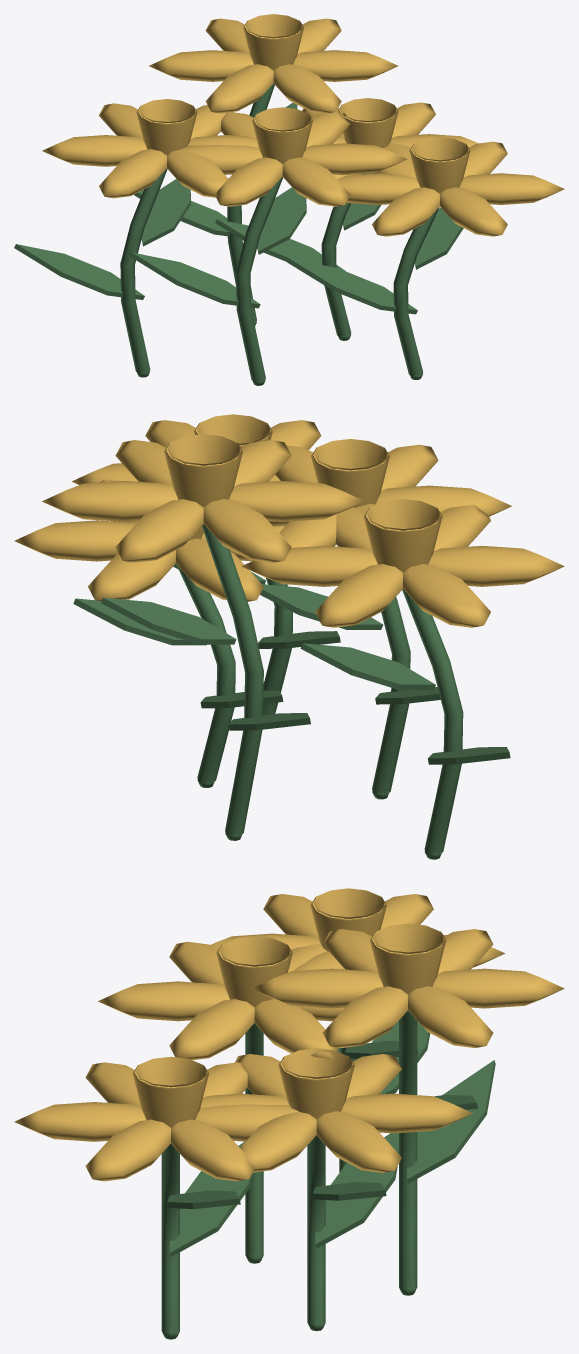
File: almanac-gardens-daffodil-cluster-eddd6b79__22036.glb
3 renders of one model, top to bottom at view 1: azimuth 30°, elevation 25°; view 2: azimuth 150°, elevation 25°; view 3: azimuth 270°, elevation 25°, orthographic. The views are drawn at different scales.
Visible parts, largest first — view 1: daffodil-cluster-gold, daffodil-cluster-leaf; view 2: daffodil-cluster-gold, daffodil-cluster-leaf; view 3: daffodil-cluster-gold, daffodil-cluster-leaf.
Boxes of the visible parts, left/top/right/bottom form: daffodil-cluster-gold: left=42, top=14, right=564, bottom=236; daffodil-cluster-leaf: left=14, top=83, right=463, bottom=385; daffodil-cluster-gold: left=14, top=414, right=564, bottom=627; daffodil-cluster-leaf: left=73, top=524, right=510, bottom=859; daffodil-cluster-gold: left=14, top=888, right=564, bottom=1181; daffodil-cluster-leaf: left=161, top=1010, right=495, bottom=1339.
Size of the model in its own units: 0.7831 by 0.5365 by 0.72.
